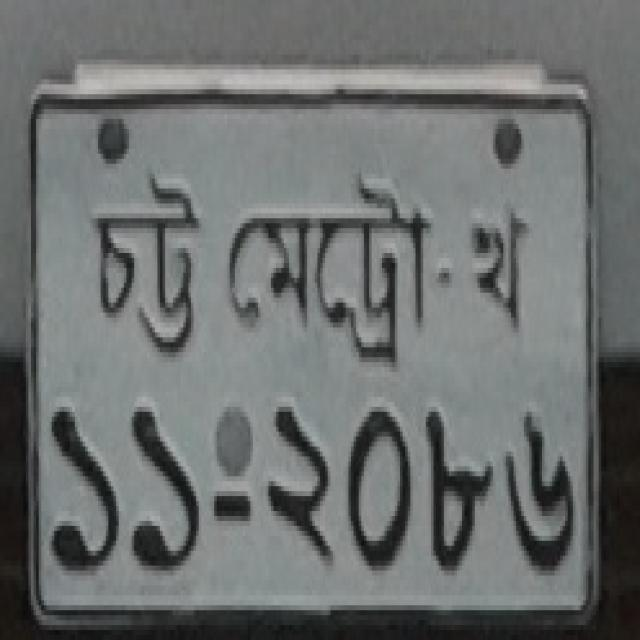numberplate: (24, 59, 602, 627)
